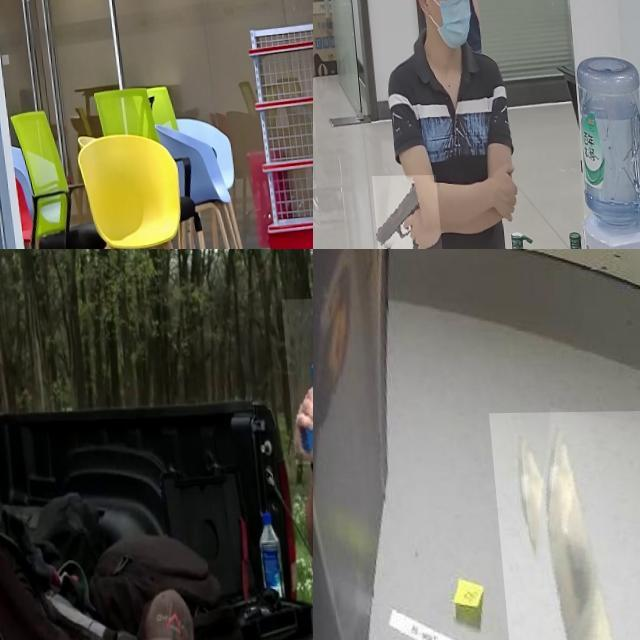-: (485, 411, 640, 640)
gun-knife-thesis - v11 Yolov5 augmented: (278, 299, 313, 465), (366, 175, 436, 249)
